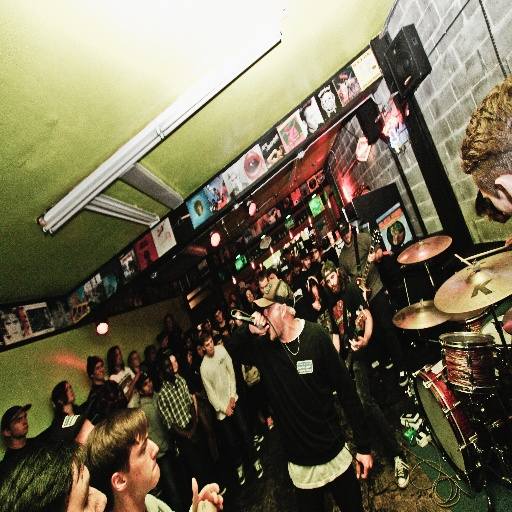hand: (185, 472, 233, 511), (355, 450, 373, 478), (250, 309, 270, 334), (347, 334, 365, 351), (196, 499, 219, 511), (187, 422, 193, 442), (366, 252, 376, 264), (192, 430, 200, 444), (225, 405, 234, 417), (312, 299, 320, 311), (267, 272, 278, 280), (132, 371, 141, 380), (227, 395, 234, 406)
